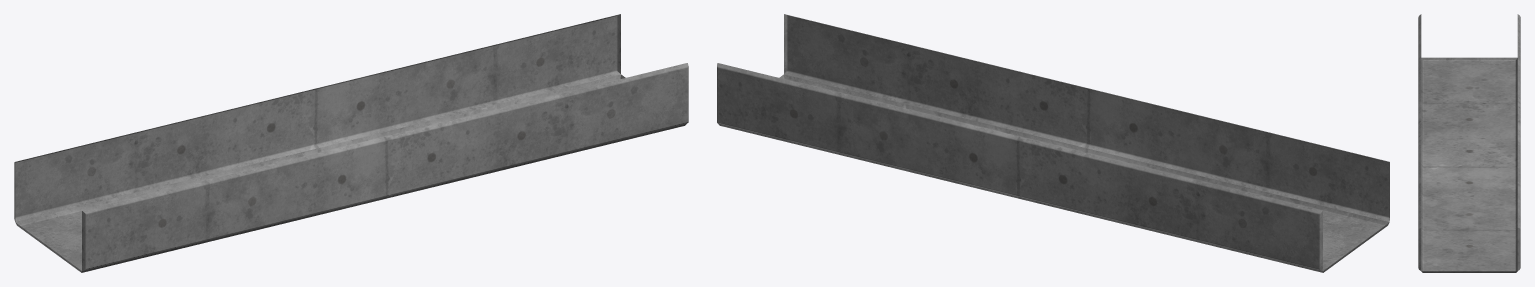
The model's file is SM_Ceiling_08.fbx.
3 views of the same model, side by side, from view 1: azimuth 30°, elevation 25°; view 2: azimuth 150°, elevation 25°; view 3: azimuth 270°, elevation 25° (orthographic). The views are drawn at different scales.
Visible parts, largest first — view 1: SM_Ceiling_08; view 2: SM_Ceiling_08; view 3: SM_Ceiling_08.
Boxes of the visible parts, x1,y1,x2,y2 form: SM_Ceiling_08: (14,14,688,272); SM_Ceiling_08: (717,14,1389,272); SM_Ceiling_08: (1418,14,1520,272).
Size of the model in its own units: 350 by 35.33 by 70.67.
